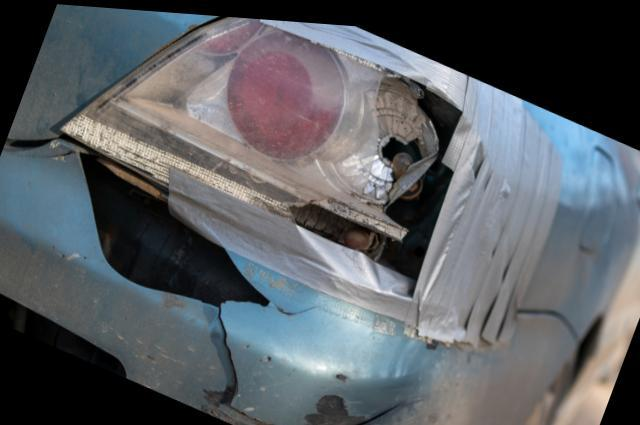crack: (45, 149, 326, 425)
lamp broken: (58, 13, 456, 272)
no part: (0, 290, 127, 376)
scratch: (194, 381, 276, 425), (304, 383, 363, 425)
